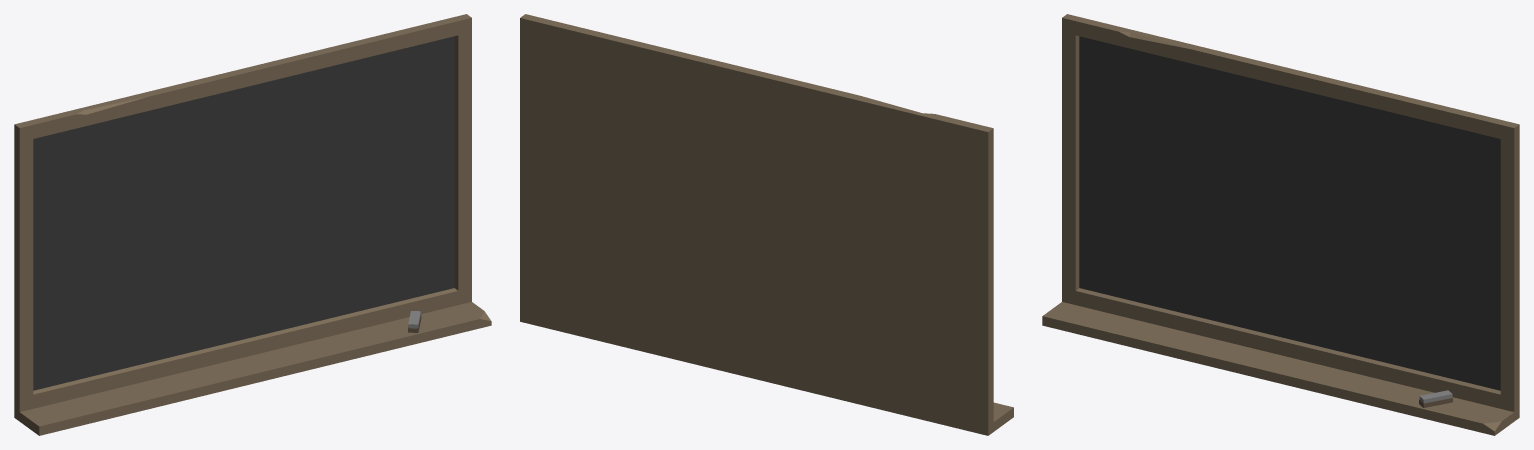
Rendered from SM_Props_Interior_Generic_School_BlackBoard.fbx.
3 views of the same model, side by side, from view 1: azimuth 30°, elevation 25°; view 2: azimuth 150°, elevation 25°; view 3: azimuth 330°, elevation 25° (orthographic). The views are drawn at different scales.
Parts seen in each view (by area): view 1: SM_Props_Interior_Generic_School_BlackBoard; view 2: SM_Props_Interior_Generic_School_BlackBoard; view 3: SM_Props_Interior_Generic_School_BlackBoard.
Part boxes in pixels (x1,y1,x2,y2): SM_Props_Interior_Generic_School_BlackBoard: [14, 14, 491, 435]; SM_Props_Interior_Generic_School_BlackBoard: [520, 14, 1013, 435]; SM_Props_Interior_Generic_School_BlackBoard: [1042, 14, 1519, 435].
Bounding box in the file's own units: 200 × 124 × 19.
